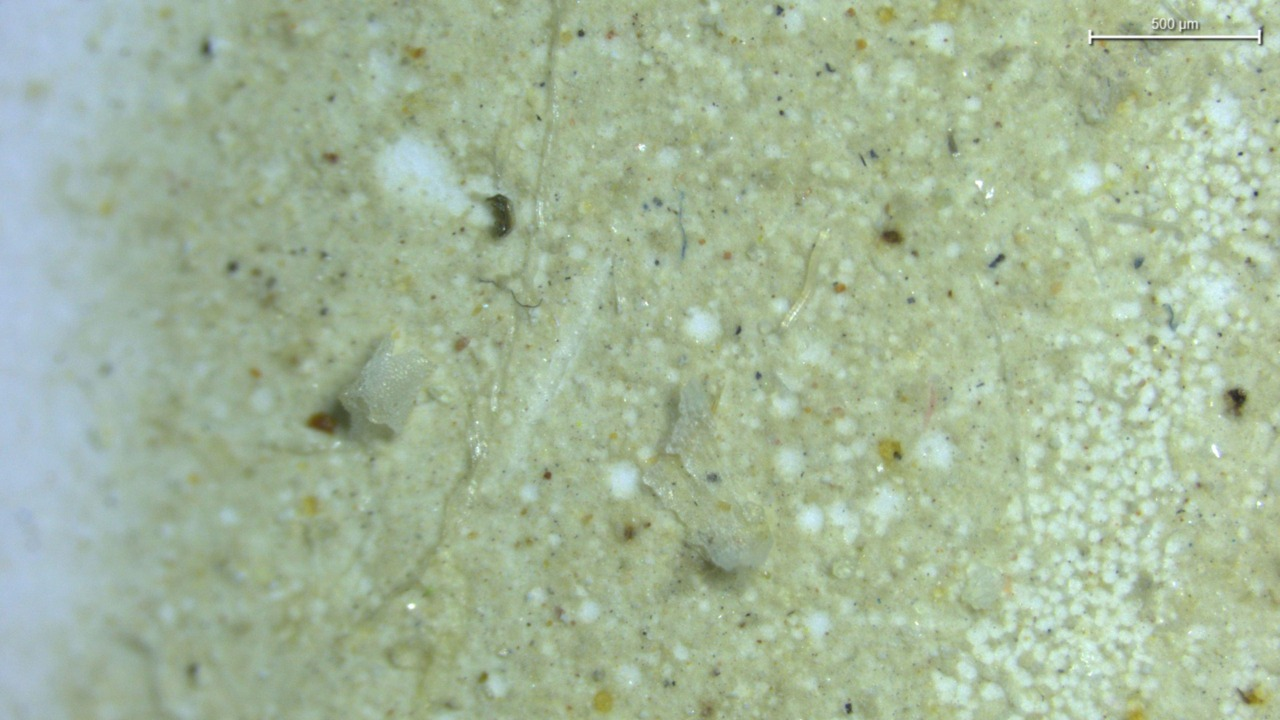microplastic_fragment: (642, 379, 772, 571), (339, 338, 435, 435), (959, 563, 1003, 611)
